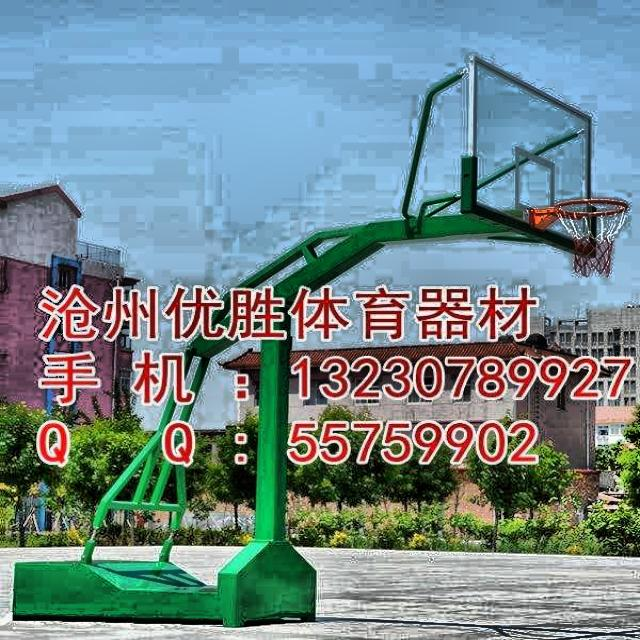rim: (554, 200, 628, 276)
